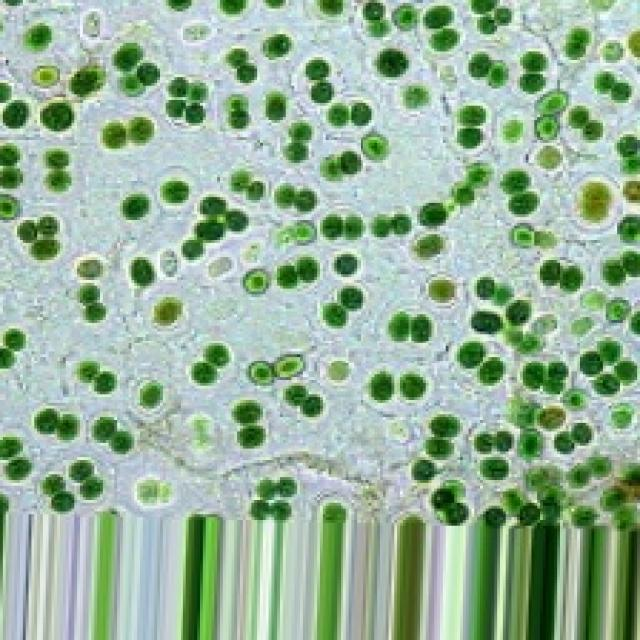Spherical_bacteria: (0, 0, 637, 529)
